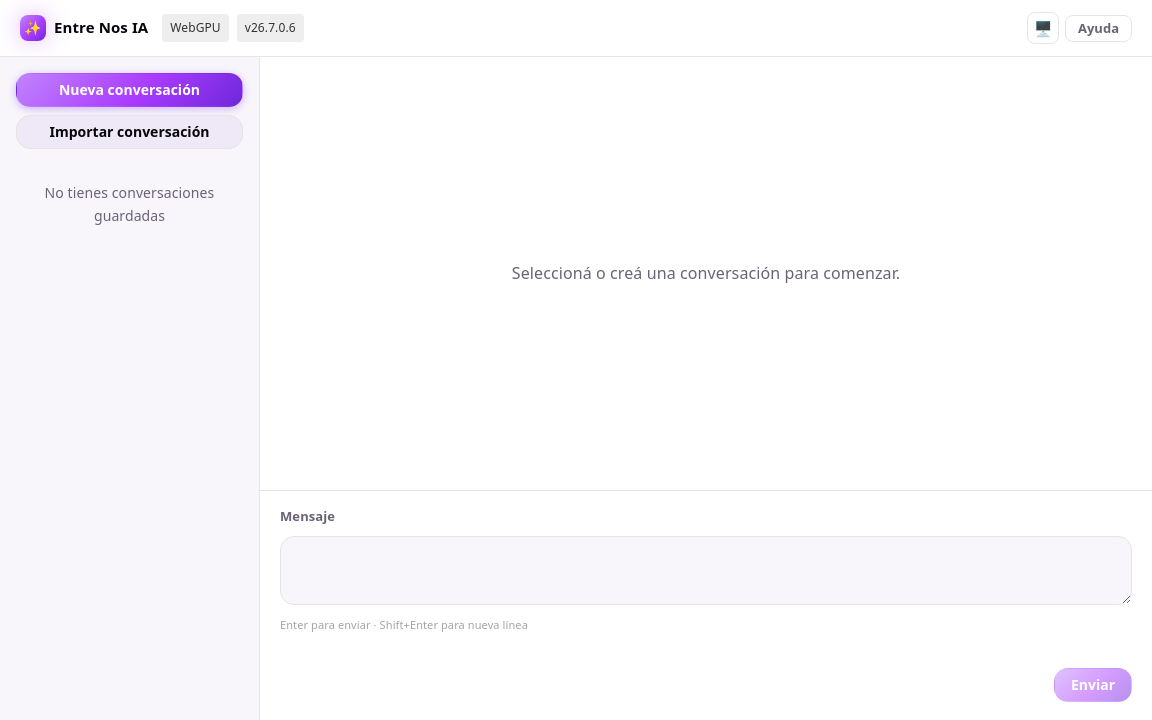
Scenario: ChatInterface › the help section is hidden by default and shows when the Help button is activated (10.4)
Click the button "Ayuda".
click(1098, 28)  # box [1065, 14, 1132, 42]
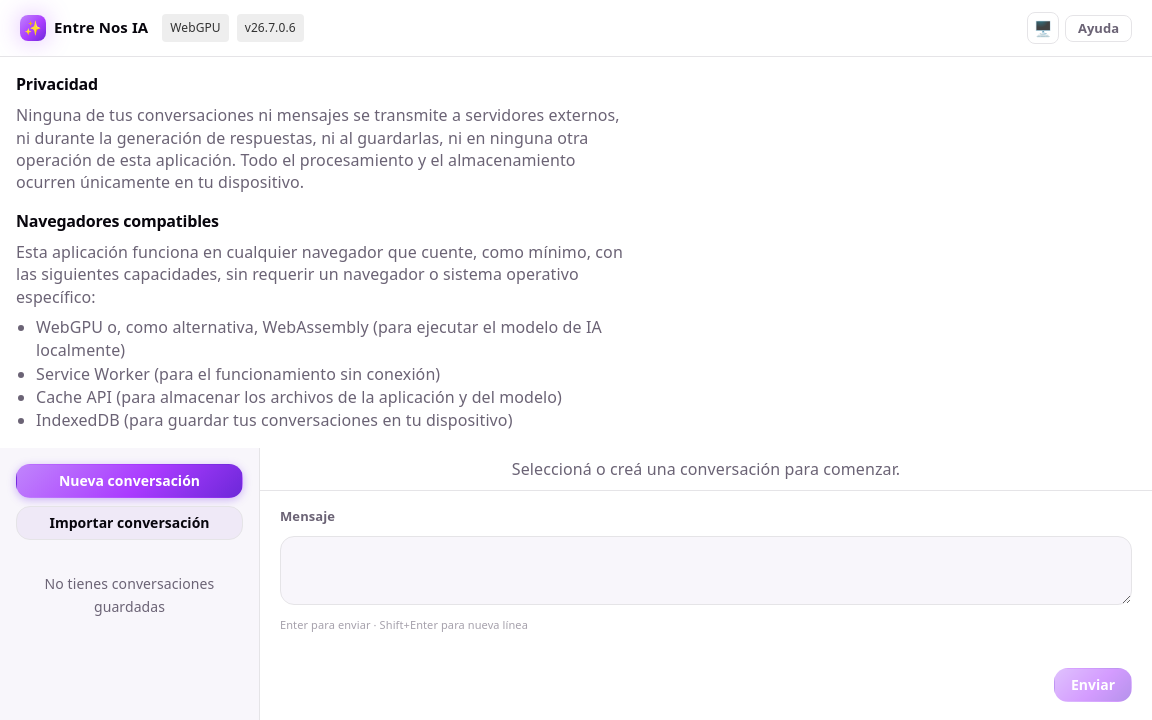
Expected: the element named "Información y ayuda" is shown, [0, 57, 640, 448]
